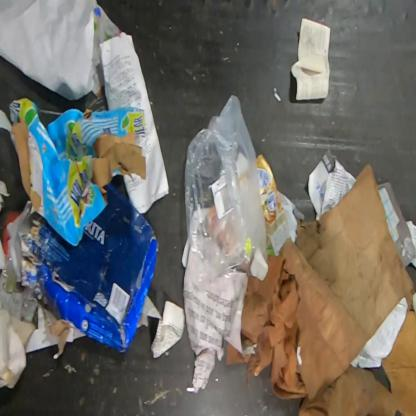cardboard: (2, 181, 160, 355), (9, 98, 146, 246)
soft_plastic: (184, 95, 270, 292)
